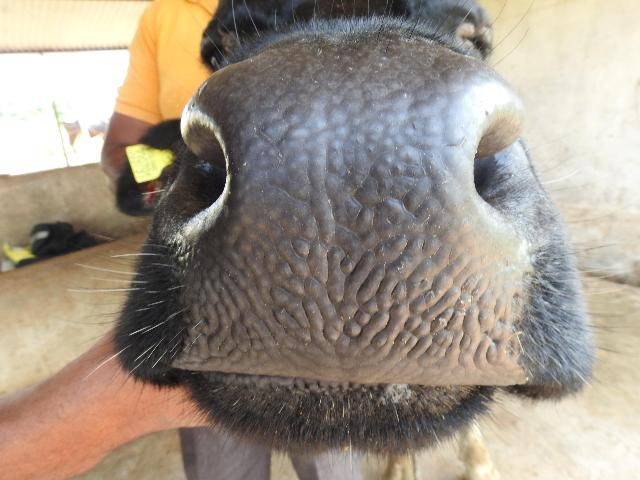Muzzle: (202, 68, 496, 384)
